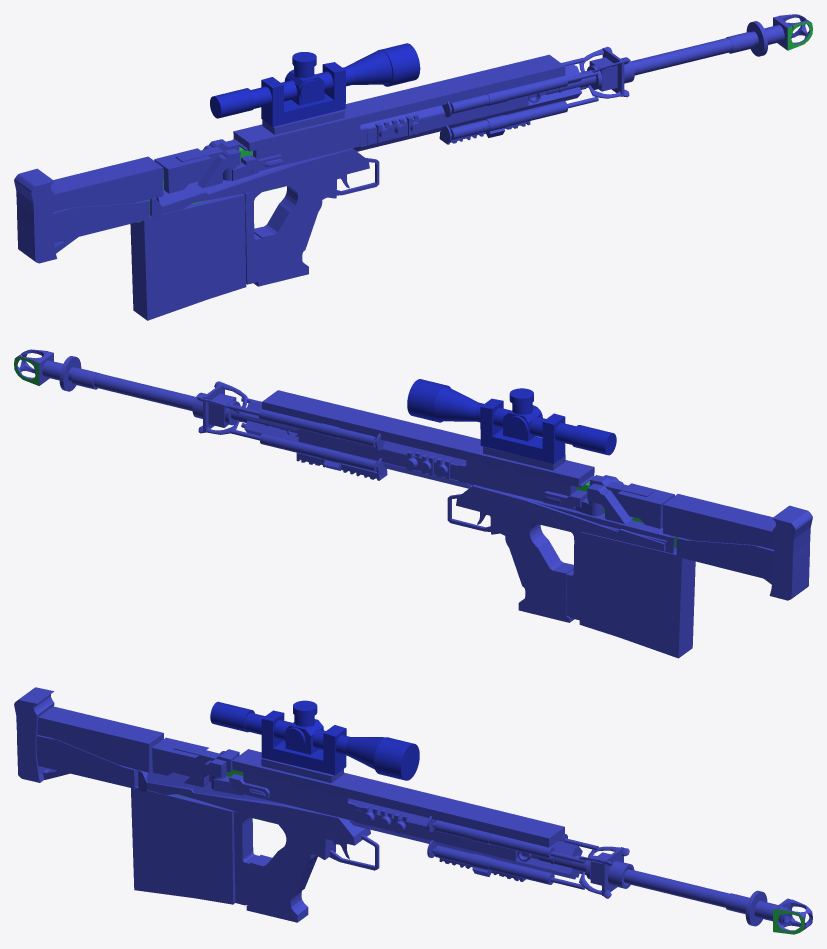
The model's file is lynx.glb.
3 views of the same model, one above another, from view 1: azimuth 30°, elevation 25°; view 2: azimuth 150°, elevation 25°; view 3: azimuth 330°, elevation 25° (orthographic).
Parts seen in each view (by area): view 1: Mesh_0, Mesh_2, Mesh_39, Mesh_45, Mesh_13, Mesh_73, Mesh_47, Mesh_81, Mesh_17, Mesh_48, Mesh_43, Mesh_3 (+15 smaller); view 2: Mesh_0, Mesh_2, Mesh_39, Mesh_45, Mesh_13, Mesh_73, Mesh_47, Mesh_81, Mesh_17, Mesh_48, Mesh_43, Mesh_51 (+16 smaller); view 3: Mesh_0, Mesh_2, Mesh_39, Mesh_45, Mesh_13, Mesh_47, Mesh_81, Mesh_73, Mesh_17, Mesh_43, Mesh_48, Mesh_7 (+18 smaller).
Part boxes in pixels (x1,y1,x2,y2): Mesh_0: (130, 194, 246, 320); Mesh_2: (233, 54, 565, 151); Mesh_39: (254, 176, 337, 286); Mesh_45: (50, 156, 163, 212); Mesh_13: (162, 148, 369, 213); Mesh_73: (14, 168, 56, 263); Mesh_47: (52, 200, 149, 242); Mesh_81: (261, 62, 345, 126); Mesh_17: (232, 125, 375, 171); Mesh_48: (631, 31, 758, 75); Mesh_43: (367, 95, 528, 145); Mesh_3: (154, 148, 211, 193); Mesh_0: (579, 532, 695, 658); Mesh_2: (262, 390, 594, 487); Mesh_39: (490, 514, 574, 622); Mesh_45: (663, 494, 775, 549); Mesh_13: (456, 484, 665, 551); Mesh_73: (769, 505, 812, 600); Mesh_47: (676, 537, 773, 580); Mesh_81: (480, 398, 565, 463); Mesh_17: (450, 460, 594, 501); Mesh_48: (68, 367, 195, 411); Mesh_43: (298, 429, 458, 480); Mesh_51: (514, 501, 675, 553); Mesh_0: (131, 786, 235, 904); Mesh_2: (232, 749, 564, 847); Mesh_39: (246, 824, 336, 922); Mesh_45: (37, 706, 163, 772); Mesh_13: (147, 782, 370, 845); Mesh_47: (36, 735, 138, 788); Mesh_81: (261, 710, 346, 775); Mesh_73: (14, 687, 54, 782); Mesh_17: (232, 767, 363, 820); Mesh_43: (354, 809, 517, 861); Mesh_48: (623, 869, 729, 907); Mesh_7: (233, 811, 271, 905).
Bounding box in the file's own units: 0.4746 × 0.1265 × 0.024.
Materials: 5 (4 with a texture image).
